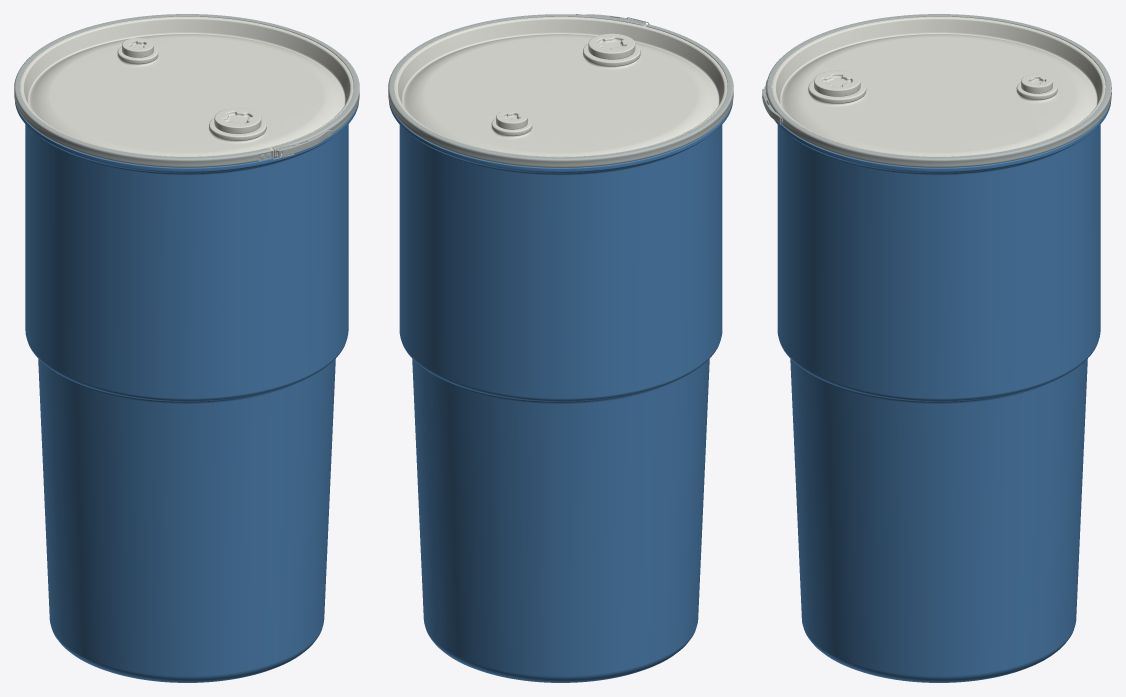
File: drum_plastic_blue_a02.glb
3 views of the same model, side by side, from view 1: azimuth 30°, elevation 25°; view 2: azimuth 150°, elevation 25°; view 3: azimuth 270°, elevation 25° (orthographic).
Bounding box in the file's own units: 0.4045 × 0.7095 × 0.4094.
